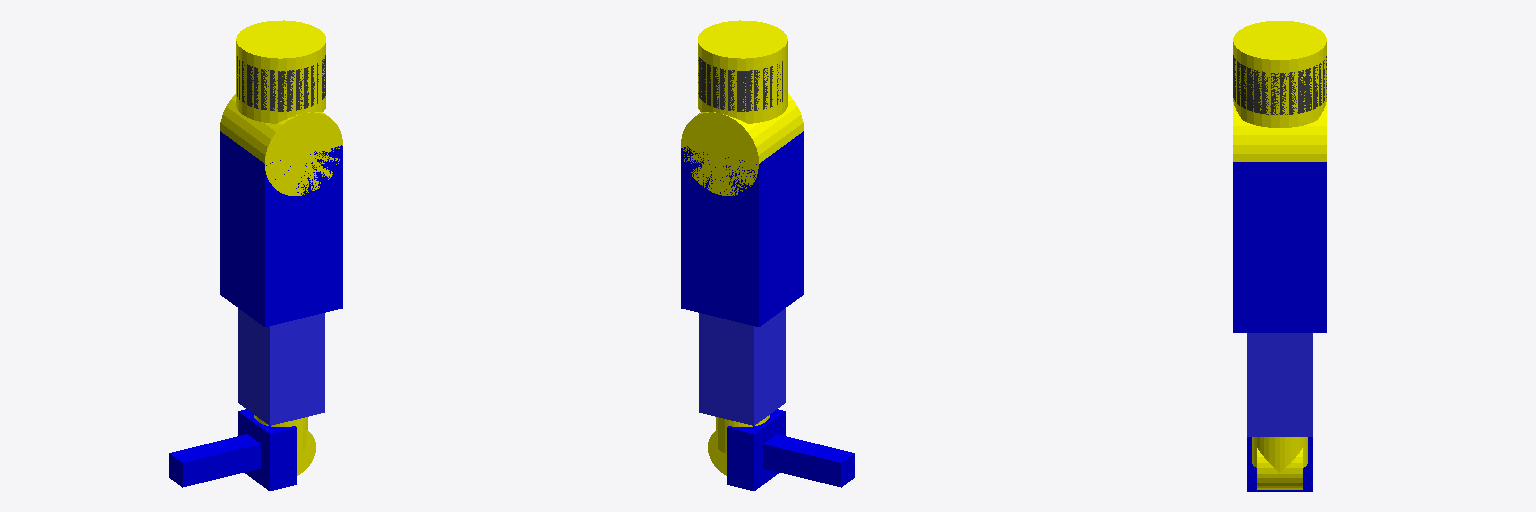
The robot description file, URDF, robot "third_arm":
<?xml version="1.0"?>
<robot name="third_arm">

  <!-- Third Arm has 5 joints, base link kept trans_xyz with the environment link -->

  <link name="environment_x">
    <visual>
      <origin xyz="0 0 0" rpy ="0 0 0"/>
      <material name="Gray">
       <color rgba="0.3 0.3 0.3 1.0"/>
      </material>   
      <geometry>
        <cylinder length="0.0" radius="0.0"/>
      </geometry>
    </visual>
    <collision>
      <origin xyz="0 0 0" rpy ="0 0 0"/>
      <material name="Gray">
       <color rgba="0.3 0.3 0.3 1.0"/>
      </material>   
      <geometry>
        <cylinder length="0.0" radius="0.0"/>
      </geometry>
    </collision>
    <inertial>
            <mass value="1.0"/>
            <inertia ixx="0.015" iyy="0.0375" izz="0.0375" ixy="0" ixz="0" iyz="0"/>
        </inertial>    
  </link>

  <link name="environment_y">
    <visual>
    <origin xyz="0 0 0" rpy ="0 0 0"/>
      <material name="Gray">
       <color rgba="0.3 0.3 0.3 1.0"/>
      </material>   
      <geometry>
        <cylinder length="0.0" radius="0.0"/>
      </geometry>
    </visual>
  </link>

  <joint name="env_x" type="prismatic">
  <origin xyz="0 0 0" rpy="0 0 0" />
  <axis xyz="1 0 0"/>    
  <limit lower="-1" upper="1" effort="100" velocity="10"/>    
    <parent link="environment_x"/>
    <child link="environment_y"/>
  </joint>

  <link name="environment_z">
    <visual>
    <origin xyz="0 0 0" rpy ="0 0 0"/>
      <material name="Gray">
       <color rgba="0.3 0.3 0.3 1.0"/>
      </material>   
      <geometry>
        <cylinder length="0.0" radius="0.0"/>
      </geometry>
    </visual>
  </link>


  <joint name="env_y" type="prismatic">
  <origin xyz="0 0 0" rpy="0 0 0" />
  <axis xyz="0 1 0"/>        
  <limit lower="-1" upper="1" effort="100" velocity="10"/>    
    <parent link="environment_y"/>
    <child link="environment_z"/>
  </joint>

  <link name="base_link">
    <visual>
		<origin xyz="0 0 0" rpy ="0 0  0"/>
      <material name="Gray">
       <color rgba="0.3 0.3 0.3 1.0"/>
      </material> 	
      <geometry>
        <cylinder length="0.05" radius="0.05"/>
      </geometry>
    </visual>
  </link>

  <joint name="env_z_to_base" type="prismatic">
  <origin xyz="0 0 0" rpy="0 0 0" />
  <axis xyz="0 0 1"/>        
  <limit lower="-1" upper="1" effort="100" velocity="10"/>      
    <parent link="environment_z"/>
    <child link="base_link"/>
  </joint>


  <link name="base_motor">
  	<inertial>
  		<origin xyz="0 0 0" rpy ="0 0 0"/>
  		<mass value="1"/>
  		<inertia ixx="100"  ixy="0"  ixz="0" iyy="100" iyz="0" izz="100" />
  	</inertial>
    <visual>
		<origin xyz="0 0 0" rpy ="0 0  0"/>
      <material name="Yellow">
       <color rgba="1.0 1.0 0.0 1.0"/>
      </material> 	
      <geometry>
        <cylinder length="0.08" radius="0.05"/>
      </geometry>
    </visual>
  </link>


  <joint name="horizontal_panning" type="revolute">
  	<axis xyz="0 0 1"/>
  	<limit lower="-3.14" upper="3.14" effort="10" velocity="3.14"/>
  	<origin xyz="0 0 0.0" rpy="0 0 -1.5708" />
    <parent link="base_link"/>
    <child link="base_motor"/>
  </joint>


  <link name="lift_motor">
  	<inertial>
  		<origin xyz="0 0 0" rpy ="0 0 0"/>
  		<mass value="1"/>
  		<inertia ixx="100"  ixy="0"  ixz="0" iyy="100" iyz="0" izz="100" />
  	</inertial>
    <visual>
		<origin xyz="0 0 0" rpy ="0 0 0"/>
      <material name="Yellow">
       <color rgba="1.0 1.0 0.0 1.0"/>
      </material> 	
      <geometry>
        <cylinder length="0.1" radius="0.05"/>
      </geometry>
    </visual>
  </link>

  <joint name="vertical_pitching" type="revolute">
  	<axis xyz="0 0 1"/>
  	<limit lower="0" upper="1.5708" effort="10" velocity="0.314"/>
  	<origin xyz="0 0 -0.08" rpy="1.5708 3.14159 1.5708" />
    <parent link="base_motor"/>
    <child link="lift_motor"/>
  </joint>

  <link name="extend_link1">
    <visual>
		<origin xyz="0 0.0 0" rpy ="0 0 0"/>
      <material name="Blue">
       <color rgba="0 0.0 1.0 0.4"/>
      </material> 	
      <geometry>
        <box size="0.1 0.2 0.1"/>
      </geometry>
    </visual>
  </link>

  <joint name="motor2_to_extend1" type="fixed">
  	<origin xyz="0 0.1 0" rpy="0 0 0" />
    <parent link="lift_motor"/>
    <child link="extend_link1"/>
  </joint>

  <link name="extend_link2">
    <visual>
		<origin xyz="0 0 0" rpy ="0 0 0"/>
      <material name="Blue2">
       <color rgba="0.2 0.2 1.0 1.0"/>
      </material> 	
      <geometry>
        <box size="0.07 .33 .07"/>
      </geometry>
    </visual>
  </link>
  
  <joint name="length_extension" type="prismatic">
  	<axis xyz="0 1 0"/>
  	<limit lower="0" upper="0.12" effort="10" velocity="5"/>
  	<origin xyz="0 0.065 0" rpy="0 0 0" />
    <parent link="extend_link1"/>
    <child link="extend_link2"/>
  </joint>


  <link name="wrist_rotation_motor">
  	<inertial>
  		<origin xyz="0 0 0" rpy =" 1.5708 0  0"/>
  		<mass value="1"/>
  		<inertia ixx="100"  ixy="0"  ixz="0" iyy="100" iyz="0" izz="100" />
  	</inertial>
    <visual>
		<origin xyz="0 0 0" rpy ="1.5708 0 0"/>
      <material name="Yellow">
       <color rgba="1.0 1.0 0.0 1.0"/>
      </material> 	
      <geometry>
        <cylinder length="0.09" radius="0.03"/>
      </geometry>
    </visual>
  </link>

  <joint name="wrist_rotation" type="revolute">
  	<axis xyz="0 1 0"/>
  	<limit lower="-3.14" upper="3.14" effort="5" velocity="0.5"/>
  	<origin xyz="0 0.165 0" rpy="0 0 0" />
    <parent link="extend_link2"/>
    <child link="wrist_rotation_motor"/>
  </joint>

  <link name="wrist_tilt_motor">
    <inertial>
      <origin xyz="0 0 0" rpy ="0 0 0"/>
      <mass value="1"/>
      <inertia ixx="100"  ixy="0"  ixz="0" iyy="100" iyz="0" izz="100" />
    </inertial>
    <visual>
    <origin xyz="0 0 0" rpy ="0 0 0"/>
      <material name="Yellow">
       <color rgba="1.0 1.0 0.0 1.0"/>
      </material>   
      <geometry>
        <cylinder length="0.05" radius="0.03"/>
      </geometry>
    </visual>
  </link>

  <joint name="wrist_pitching" type="revolute">
    <axis xyz="0 0 1"/>
    <limit lower="0" upper="3.14159" effort="5" velocity="0.5"/>
    <origin xyz="0 0.045 0" rpy="0 0 -1.5708" />
    <parent link="wrist_rotation_motor"/>
    <child link="wrist_tilt_motor"/>
  </joint>

  <link name="wrist_plate">
    <visual>
		<origin xyz="0 0 0" rpy ="0 0 0"/>
      <material name="Blue">
       <color rgba="0.0 0.0 1.0 1.0"/>
      </material> 	
      <geometry>
        <box size="0.07 .035 .07"/>
      </geometry>
    </visual>
  </link>

  <joint name="wrist_tilt_motor_to_plate" type="fixed">
  	<origin xyz="0 0.0175 0" rpy="0 0 0" />
    <parent link="wrist_tilt_motor"/>
    <child link="wrist_plate"/>
  </joint>

  <link name="gripper_plate">
    <visual>
    <origin xyz="0.0 0 0" rpy ="0 0 0"/>
      <material name="Blue">
       <color rgba="0.0 0.0 1.0 1.0"/>
      </material>   
      <geometry>
        <box size=".1 .03 .03"/>
      </geometry>
    </visual>
  </link>

  <joint name="wrist_plate_to_gripper_plate" type="fixed">
    <origin xyz="0 0.0675 0" rpy="1.5708 0 1.5708" />
    <parent link="wrist_plate"/>
    <child link="gripper_plate"/>
  </joint>

  <link name="gripper_end_point">
    <visual>
    <origin xyz="0 0 0" rpy ="0 0 0"/>
      <material name="Blue">
       <color rgba="0.0 0.0 1.0 1.0"/>
      </material>   
      <geometry>
        <box size=".0 .0 .0"/>
      </geometry>
    </visual>
  </link>

<joint name="gripper_end_point" type="fixed">
    <origin xyz="0.05 0 0" rpy="0 0 0" />
    <parent link="gripper_plate"/>
    <child link="gripper_end_point"/>
  </joint>
  <!--
  <link name="gripper_motor">
  	<inertial>
  		<origin xyz="0 0 0" rpy =" 1.5708 0  0"/>
  		<mass value="1"/>
  		<inertia ixx="100"  ixy="0"  ixz="0" iyy="100" iyz="0" izz="100" />
  	</inertial>
    <visual>
		<origin xyz="0 0 0" rpy ="0 0 0"/>
      <material name="Yellow">
       <color rgba="1.0 1.0 0.0 1.0"/>
      </material> 	
      <geometry>
        <cylinder length="0.07" radius="0.01"/>
      </geometry>
    </visual>
  </link>

  <joint name="gripper_motor_to_plate" type="fixed">
  	<origin xyz="0 0.02 0" rpy="0 0 0" />
    <parent link="wrist_plate"/>
    <child link="gripper_motor"/>
  </joint>

  
  <link name="finger1">
  	<inertial>
  		<origin xyz="0 0.06 0" rpy =" 0 0  0"/>
  		<mass value="1"/>
  		<inertia ixx="100"  ixy="0"  ixz="0" iyy="100" iyz="0" izz="100" />
  	</inertial>  	
    <visual>
		<origin xyz="0 0.06 0" rpy ="0 0 0"/>
      <material name="Orange1">
       <color rgba="1.0 0.65 0.0 1.0"/>
      </material> 	
      <geometry>
        <box size="0.01 .1 .02"/>
      </geometry>
    </visual>
  </link>

  <joint name="finger1_to_gripper_motor" type="revolute">
  	<axis xyz="0 0 1"/>
  	<limit lower="0" upper="1" effort="5" velocity="0.5"/>
  	<origin xyz="0 0 0" rpy="0 0 0" />
    <parent link="gripper_motor"/>
    <child link="finger1"/>
  </joint>

  <link name="finger2">
  	<inertial>
  		<origin xyz="0 0.06 0" rpy =" 0 0  0"/>
  		<mass value="1"/>
  		<inertia ixx="100"  ixy="0"  ixz="0" iyy="100" iyz="0" izz="100" />
  	</inertial>
    <visual>
		<origin xyz="0 0.06 0" rpy ="0 0 0"/>
      <material name="Orange2">
       <color rgba="1.0 0.55 0.0 1.0"/>
      </material> 	
      <geometry>
        <box size="0.01 .1 .02"/>
      </geometry>
    </visual>
  </link>

  <joint name="finger2_to_gripper_motor" type="revolute">
  	<axis xyz="0 0 1"/>
  	<limit lower="-1" upper="0" effort="5" velocity="0.5"/>
  	<origin xyz="0 0 0" rpy="0 0 0" />
  	<mimic joint="finger1_to_gripper_motor" multiplier="-1" />
    <parent link="gripper_motor"/>
    <child link="finger2"/>
  </joint>
  -->
</robot>

--- Facts derived from the render (not from the file) ---
Views: 3 orthographic renders of the robot side by side, from view 1: azimuth 30°, elevation 25°; view 2: azimuth 150°, elevation 25°; view 3: azimuth 270°, elevation 25°.
Model third_arm with 13 links and 12 joints (4 revolute, 4 prismatic, 4 fixed), rooted at environment_x, posed all joints at 0.
Links seen in each view (by area): view 1: extend_link1, extend_link2, lift_motor, base_motor, gripper_plate, wrist_plate, base_link; view 2: extend_link1, extend_link2, lift_motor, base_motor, gripper_plate, wrist_plate, base_link; view 3: extend_link1, extend_link2, base_motor, lift_motor, base_link, wrist_rotation_motor, wrist_tilt_motor, wrist_plate.
Boxes of the visible links, left/top/right/bottom form: extend_link1: left=220, top=131, right=342, bottom=326; extend_link2: left=238, top=308, right=324, bottom=425; lift_motor: left=220, top=94, right=342, bottom=195; base_motor: left=236, top=20, right=325, bottom=123; gripper_plate: left=169, top=434, right=260, bottom=487; wrist_plate: left=238, top=409, right=296, bottom=490; base_link: left=237, top=55, right=325, bottom=111; extend_link1: left=681, top=131, right=803, bottom=326; extend_link2: left=699, top=308, right=785, bottom=425; lift_motor: left=681, top=94, right=803, bottom=195; base_motor: left=698, top=20, right=787, bottom=123; gripper_plate: left=763, top=434, right=854, bottom=487; wrist_plate: left=727, top=409, right=785, bottom=490; base_link: left=698, top=57, right=782, bottom=111; extend_link1: left=1233, top=162, right=1326, bottom=332; extend_link2: left=1247, top=333, right=1312, bottom=436; base_motor: left=1233, top=21, right=1326, bottom=127; lift_motor: left=1233, top=102, right=1326, bottom=161; base_link: left=1233, top=55, right=1326, bottom=114; wrist_rotation_motor: left=1252, top=437, right=1307, bottom=472; wrist_tilt_motor: left=1257, top=448, right=1302, bottom=489; wrist_plate: left=1247, top=437, right=1312, bottom=491.
Bounding box of the posed robot: 0.185 × 0.1 × 0.53 m (x, y, z).
Geometry: primitives only (box / cylinder / sphere), no mesh files.